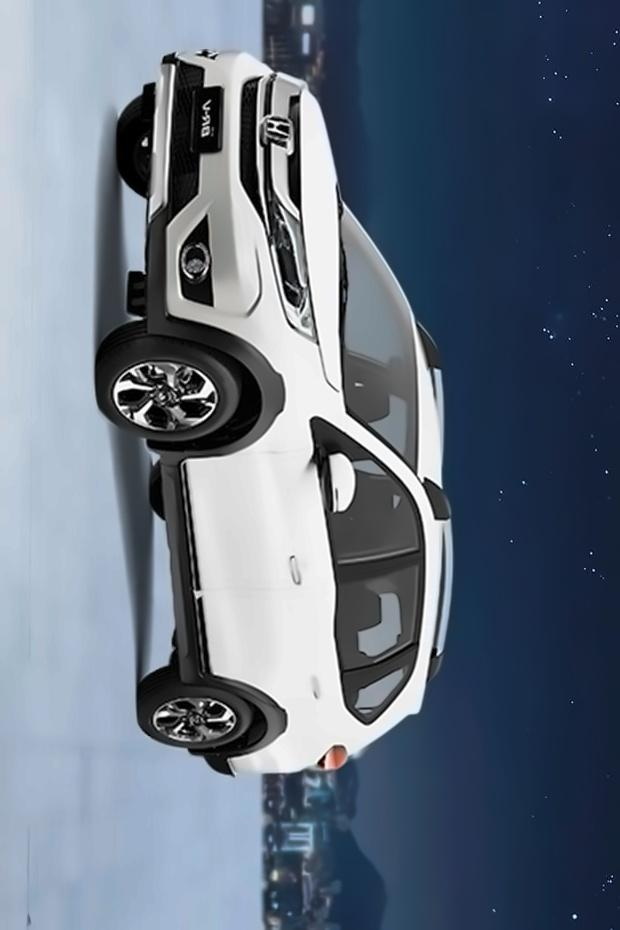Car hood: (294, 77, 346, 398)
Fender - -F-L-: (169, 326, 352, 447)
Fender - -R-L-: (263, 703, 357, 767)
Front bumper: (136, 42, 261, 349)
Headlight - -L-: (260, 187, 321, 346)
Passenger-s door - -F-L-: (171, 449, 446, 590)
Passenger-s door - -R-L-: (189, 590, 446, 708)
Rear bumper: (196, 734, 295, 801)
Rear light - -L-: (304, 737, 357, 778)
Side bumper - -L-: (152, 439, 220, 695)
Side mirror - -L-: (309, 442, 363, 524)
